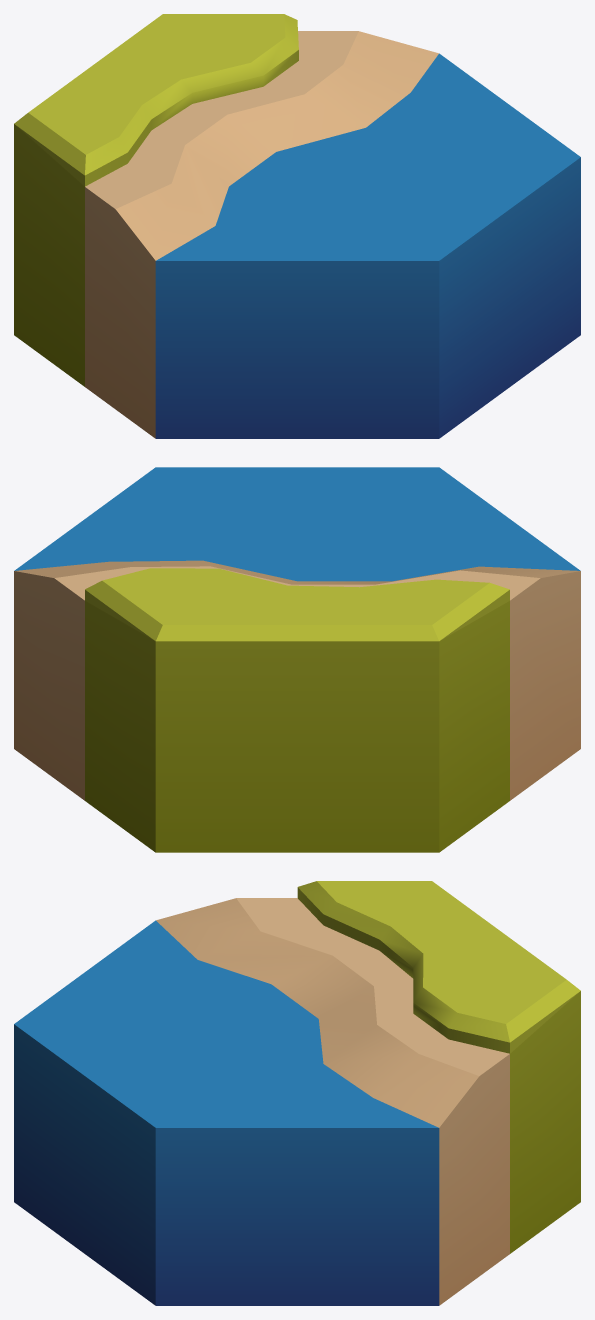
The model's file is hex_coast_C.glb.
3 renders of one model, top to bottom at view 1: azimuth 30°, elevation 25°; view 2: azimuth 150°, elevation 25°; view 3: azimuth 270°, elevation 25°, orthographic.
Parts seen in each view (by area): view 1: hex_coast_C; view 2: hex_coast_C; view 3: hex_coast_C.
Boxes of the visible parts, left/top/right/bottom form: hex_coast_C: left=14, top=14, right=580, bottom=438; hex_coast_C: left=14, top=467, right=580, bottom=852; hex_coast_C: left=14, top=881, right=580, bottom=1305.
Bounding box in the file's own units: 2 × 1 × 2.31.
Materials: 1 (1 with a texture image).
